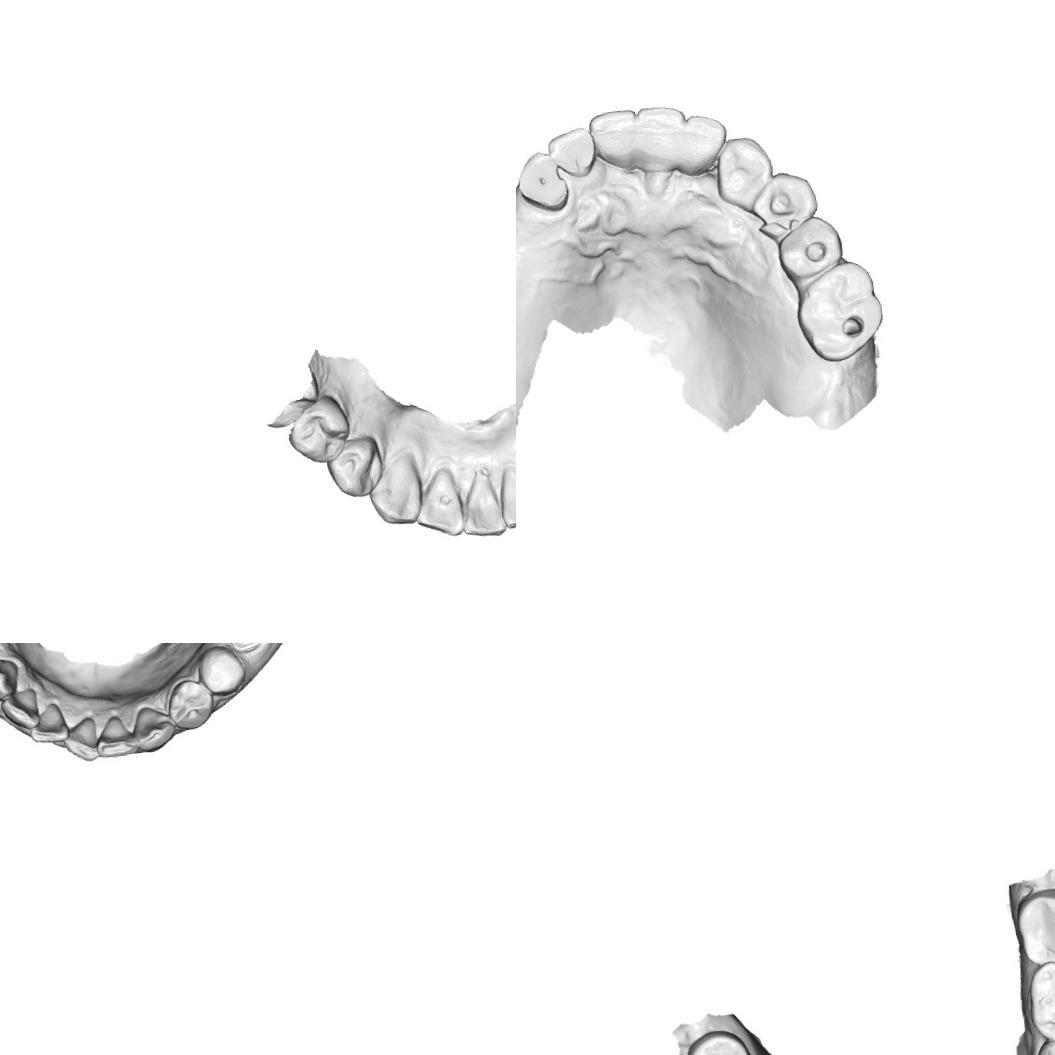canine: (364, 450, 430, 528), (712, 133, 778, 210), (516, 147, 570, 214), (129, 702, 179, 754), (0, 654, 21, 703)
implant_minus: (225, 643, 265, 653)
incisor: (634, 102, 691, 176), (411, 472, 471, 542), (586, 107, 643, 175), (456, 468, 508, 542), (675, 112, 731, 178), (544, 124, 599, 182), (91, 712, 140, 759), (25, 700, 70, 746), (0, 686, 41, 732), (61, 716, 100, 764), (496, 459, 516, 530)
molar: (790, 256, 888, 365), (1012, 885, 1055, 968), (1020, 958, 1055, 1044), (680, 1025, 763, 1055)
premolar: (747, 168, 822, 242), (284, 395, 355, 468), (774, 213, 846, 284), (325, 433, 388, 500), (194, 643, 249, 698), (164, 677, 216, 732)
